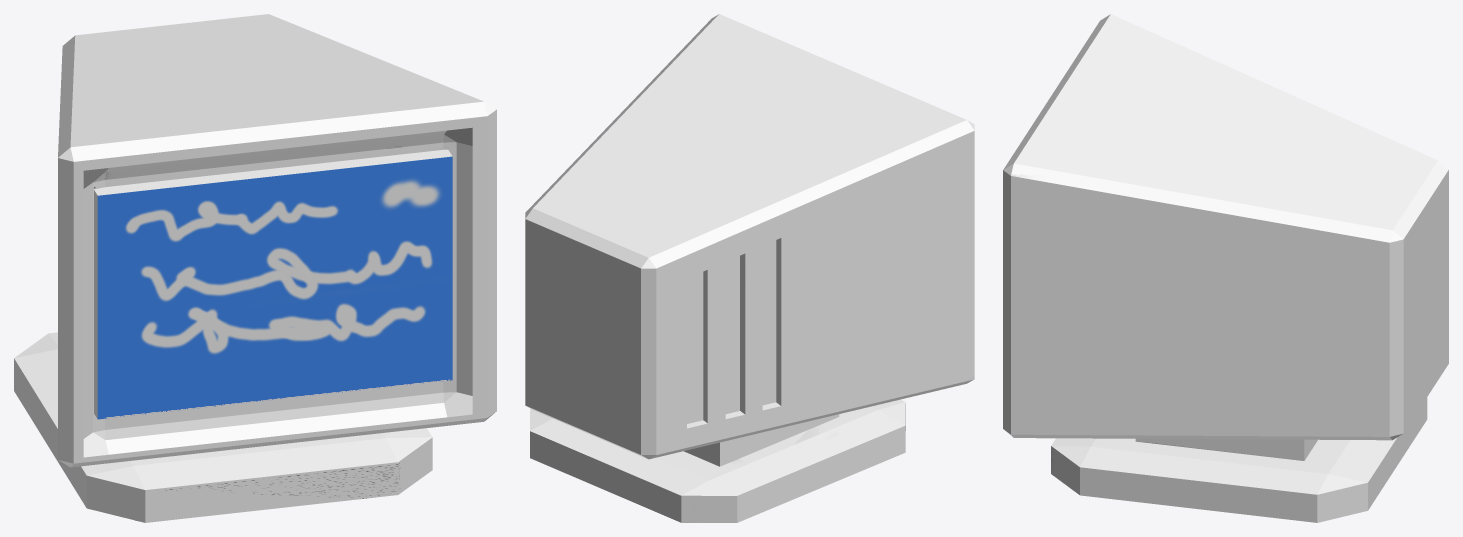
The picture shows the model from 3 angles, left to right: view 1: azimuth 30°, elevation 25°; view 2: azimuth 150°, elevation 25°; view 3: azimuth 270°, elevation 25°; orthographic projection. The views are drawn at different scales.
Visible parts, largest first — view 1: Cube.002; view 2: Cube.002; view 3: Cube.002.
Part boxes in pixels (left/top/right/bottom): Cube.002: left=14, top=14, right=496, bottom=522; Cube.002: left=525, top=14, right=974, bottom=522; Cube.002: left=1003, top=14, right=1448, bottom=522.
Size of the model in its own units: 1.3 by 1.17 by 1.39.
Materials: 2 (2 with a texture image).
